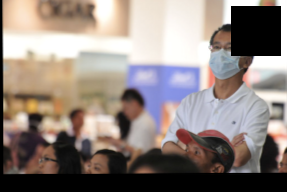with_mask: (209, 39, 246, 79)
without_mask: (37, 152, 60, 173), (86, 159, 108, 173)
